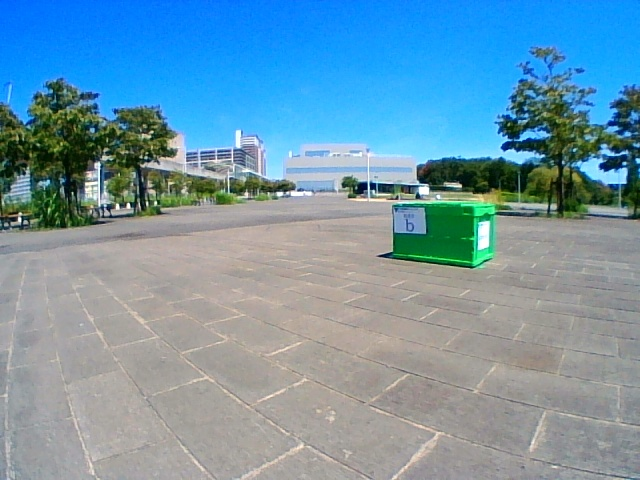green_box: (392, 200, 495, 268)
tag_b: (393, 207, 425, 233)
